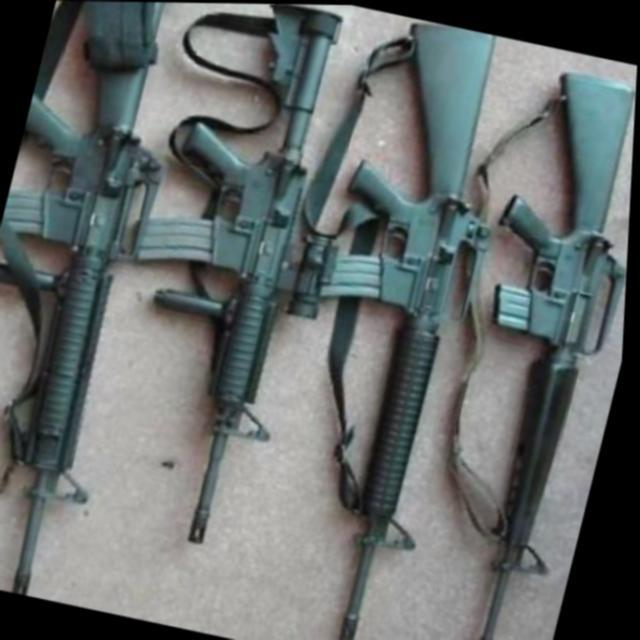weapon: (233, 9, 524, 640), (390, 41, 638, 640), (95, 1, 354, 563), (0, 0, 239, 609)
